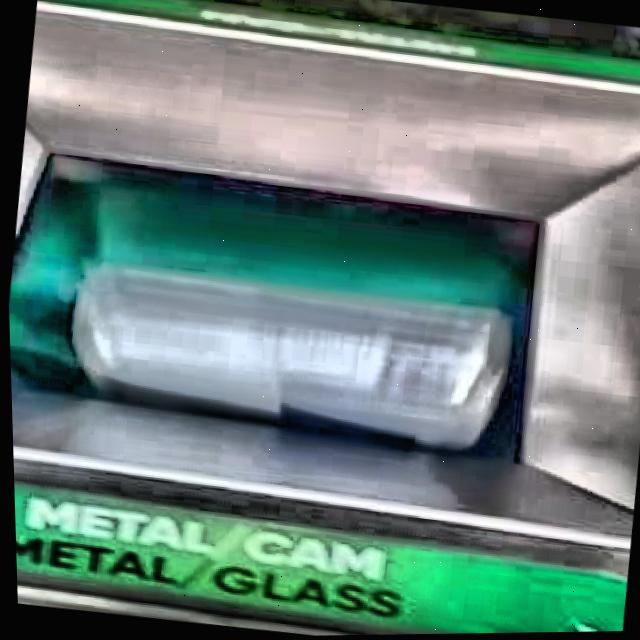metal: (70, 268, 506, 451)
